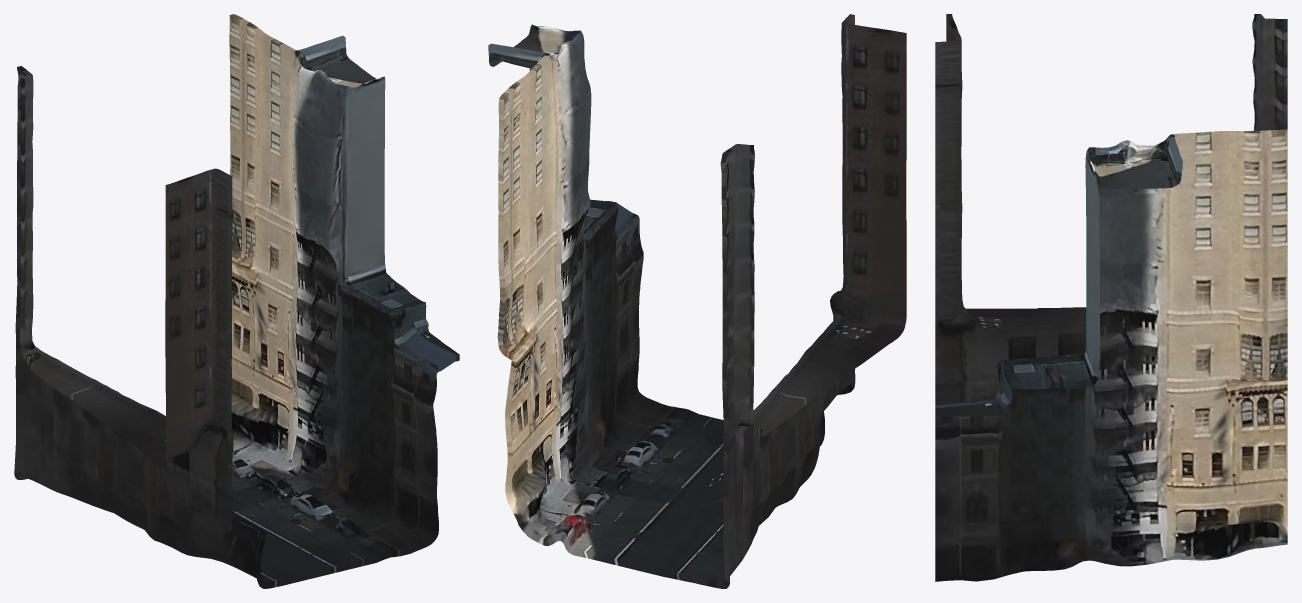
Rendered from z20-167745-405247-h0-yup-uvflip-v3-world.glb.
The picture shows the model from 3 angles, left to right: view 1: azimuth 30°, elevation 25°; view 2: azimuth 150°, elevation 25°; view 3: azimuth 270°, elevation 25°; orthographic projection. The views are drawn at different scales.
Bounding box in the file's own units: 30.16 × 42.44 × 30.32.
Materials: 1 (1 with a texture image).
